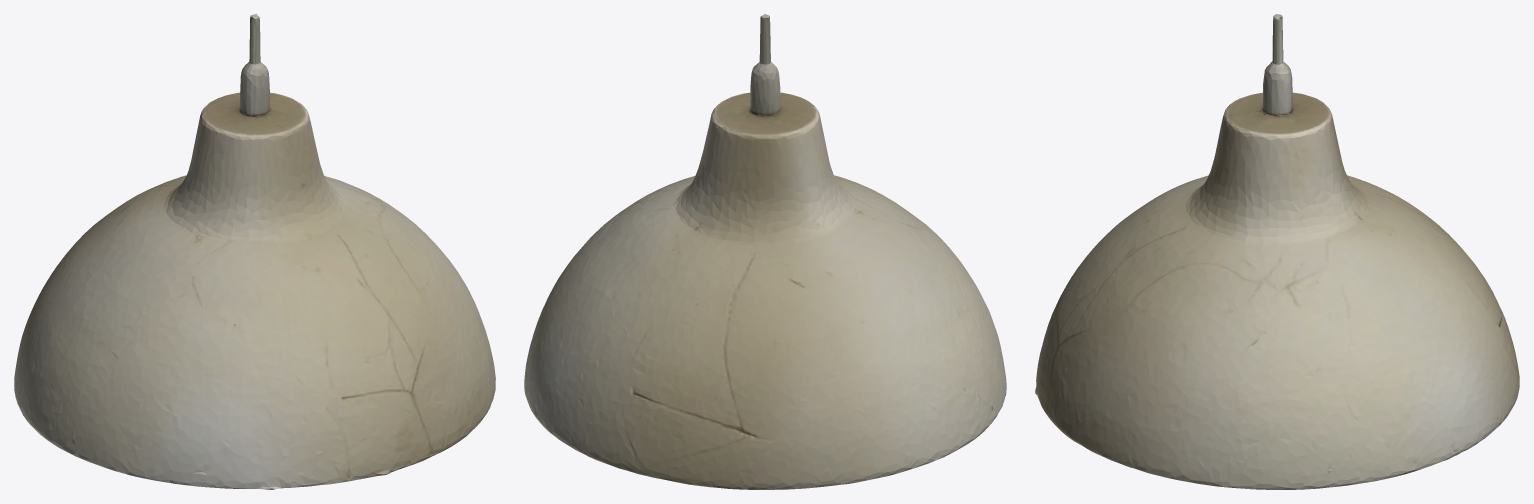
File: ast_2baa861742c3.glb
3 views of the same model, side by side, from view 1: azimuth 30°, elevation 25°; view 2: azimuth 150°, elevation 25°; view 3: azimuth 270°, elevation 25° (orthographic).
Visible parts, largest first — view 1: geometry_0; view 2: geometry_0; view 3: geometry_0.
Boxes of the visible parts, x1=… form: geometry_0: x1=14, y1=14, x2=495, y2=489; geometry_0: x1=524, y1=14, x2=1006, y2=489; geometry_0: x1=1035, y1=14, x2=1519, y2=489.
Size of the model in its own units: 0.7619 by 0.6494 by 0.7634.
1 material, 1 textured.
